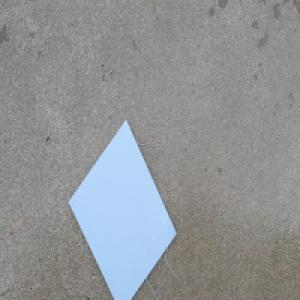PaintChip: (67, 115, 178, 300)
